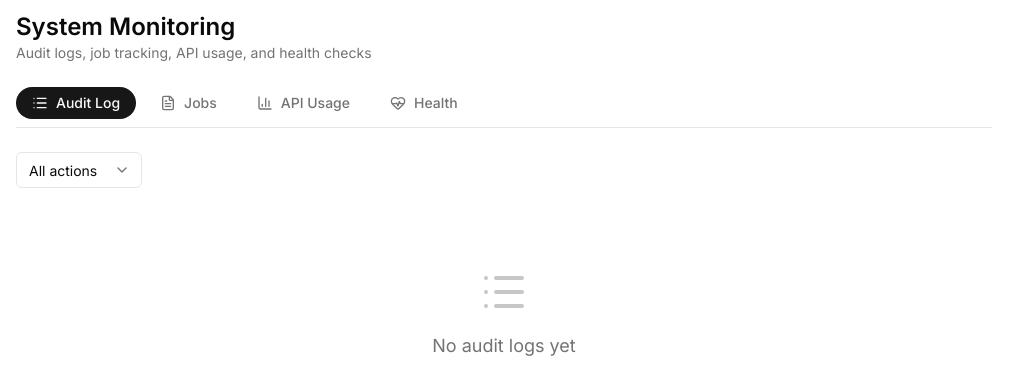
MonitoringPage › switches to usage tab
The width and height of the screenshot is (1009, 373).
Click the button "API Usage".
click(303, 103)  # box [241, 87, 366, 119]
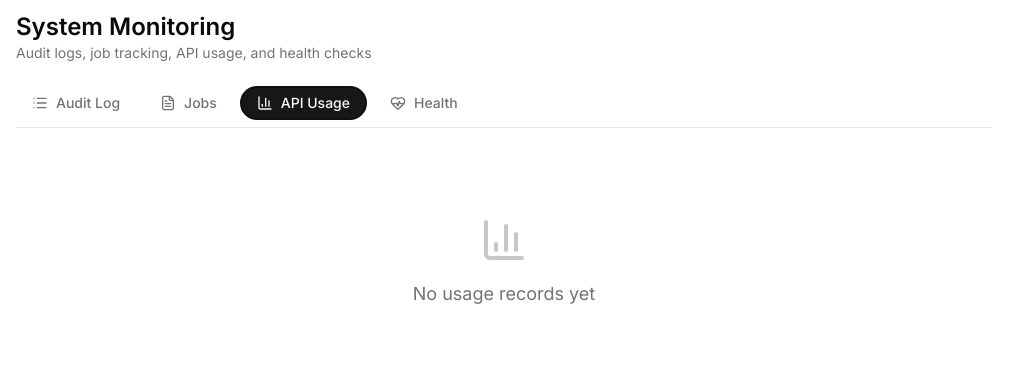
Now the text "No usage records yet" is shown, box [413, 280, 595, 308]
